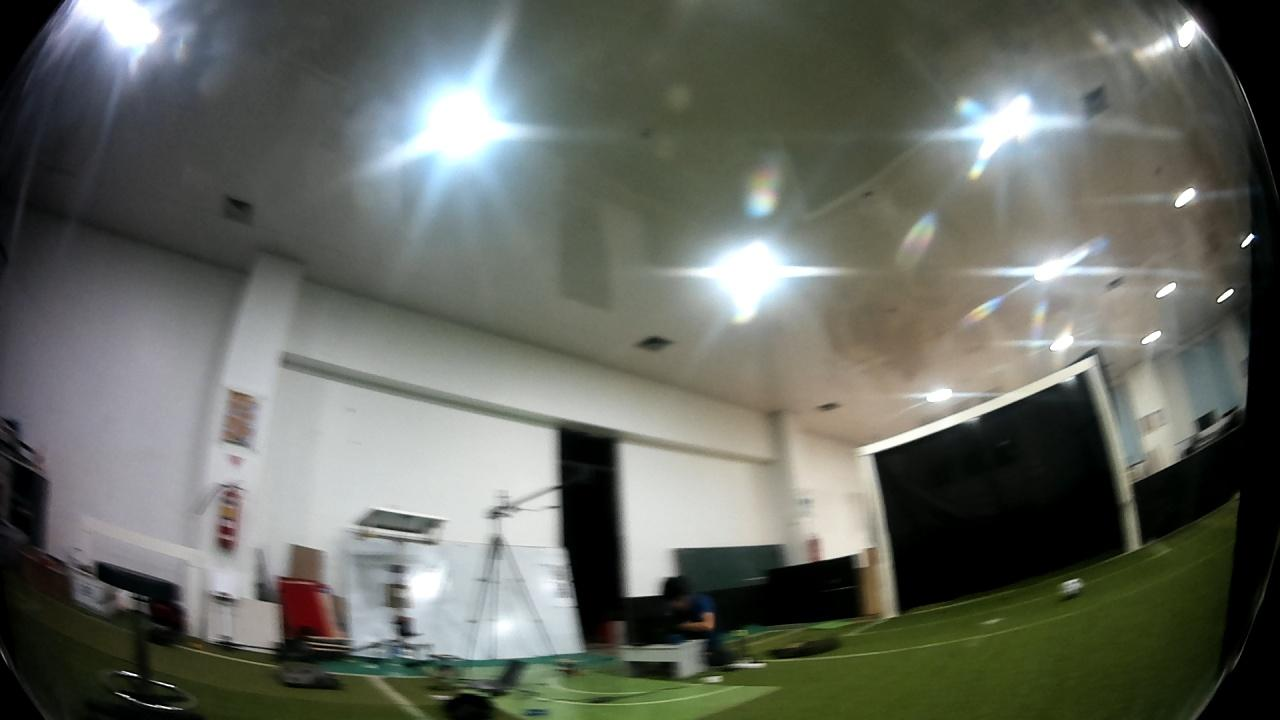ball: (1057, 576, 1084, 603)
